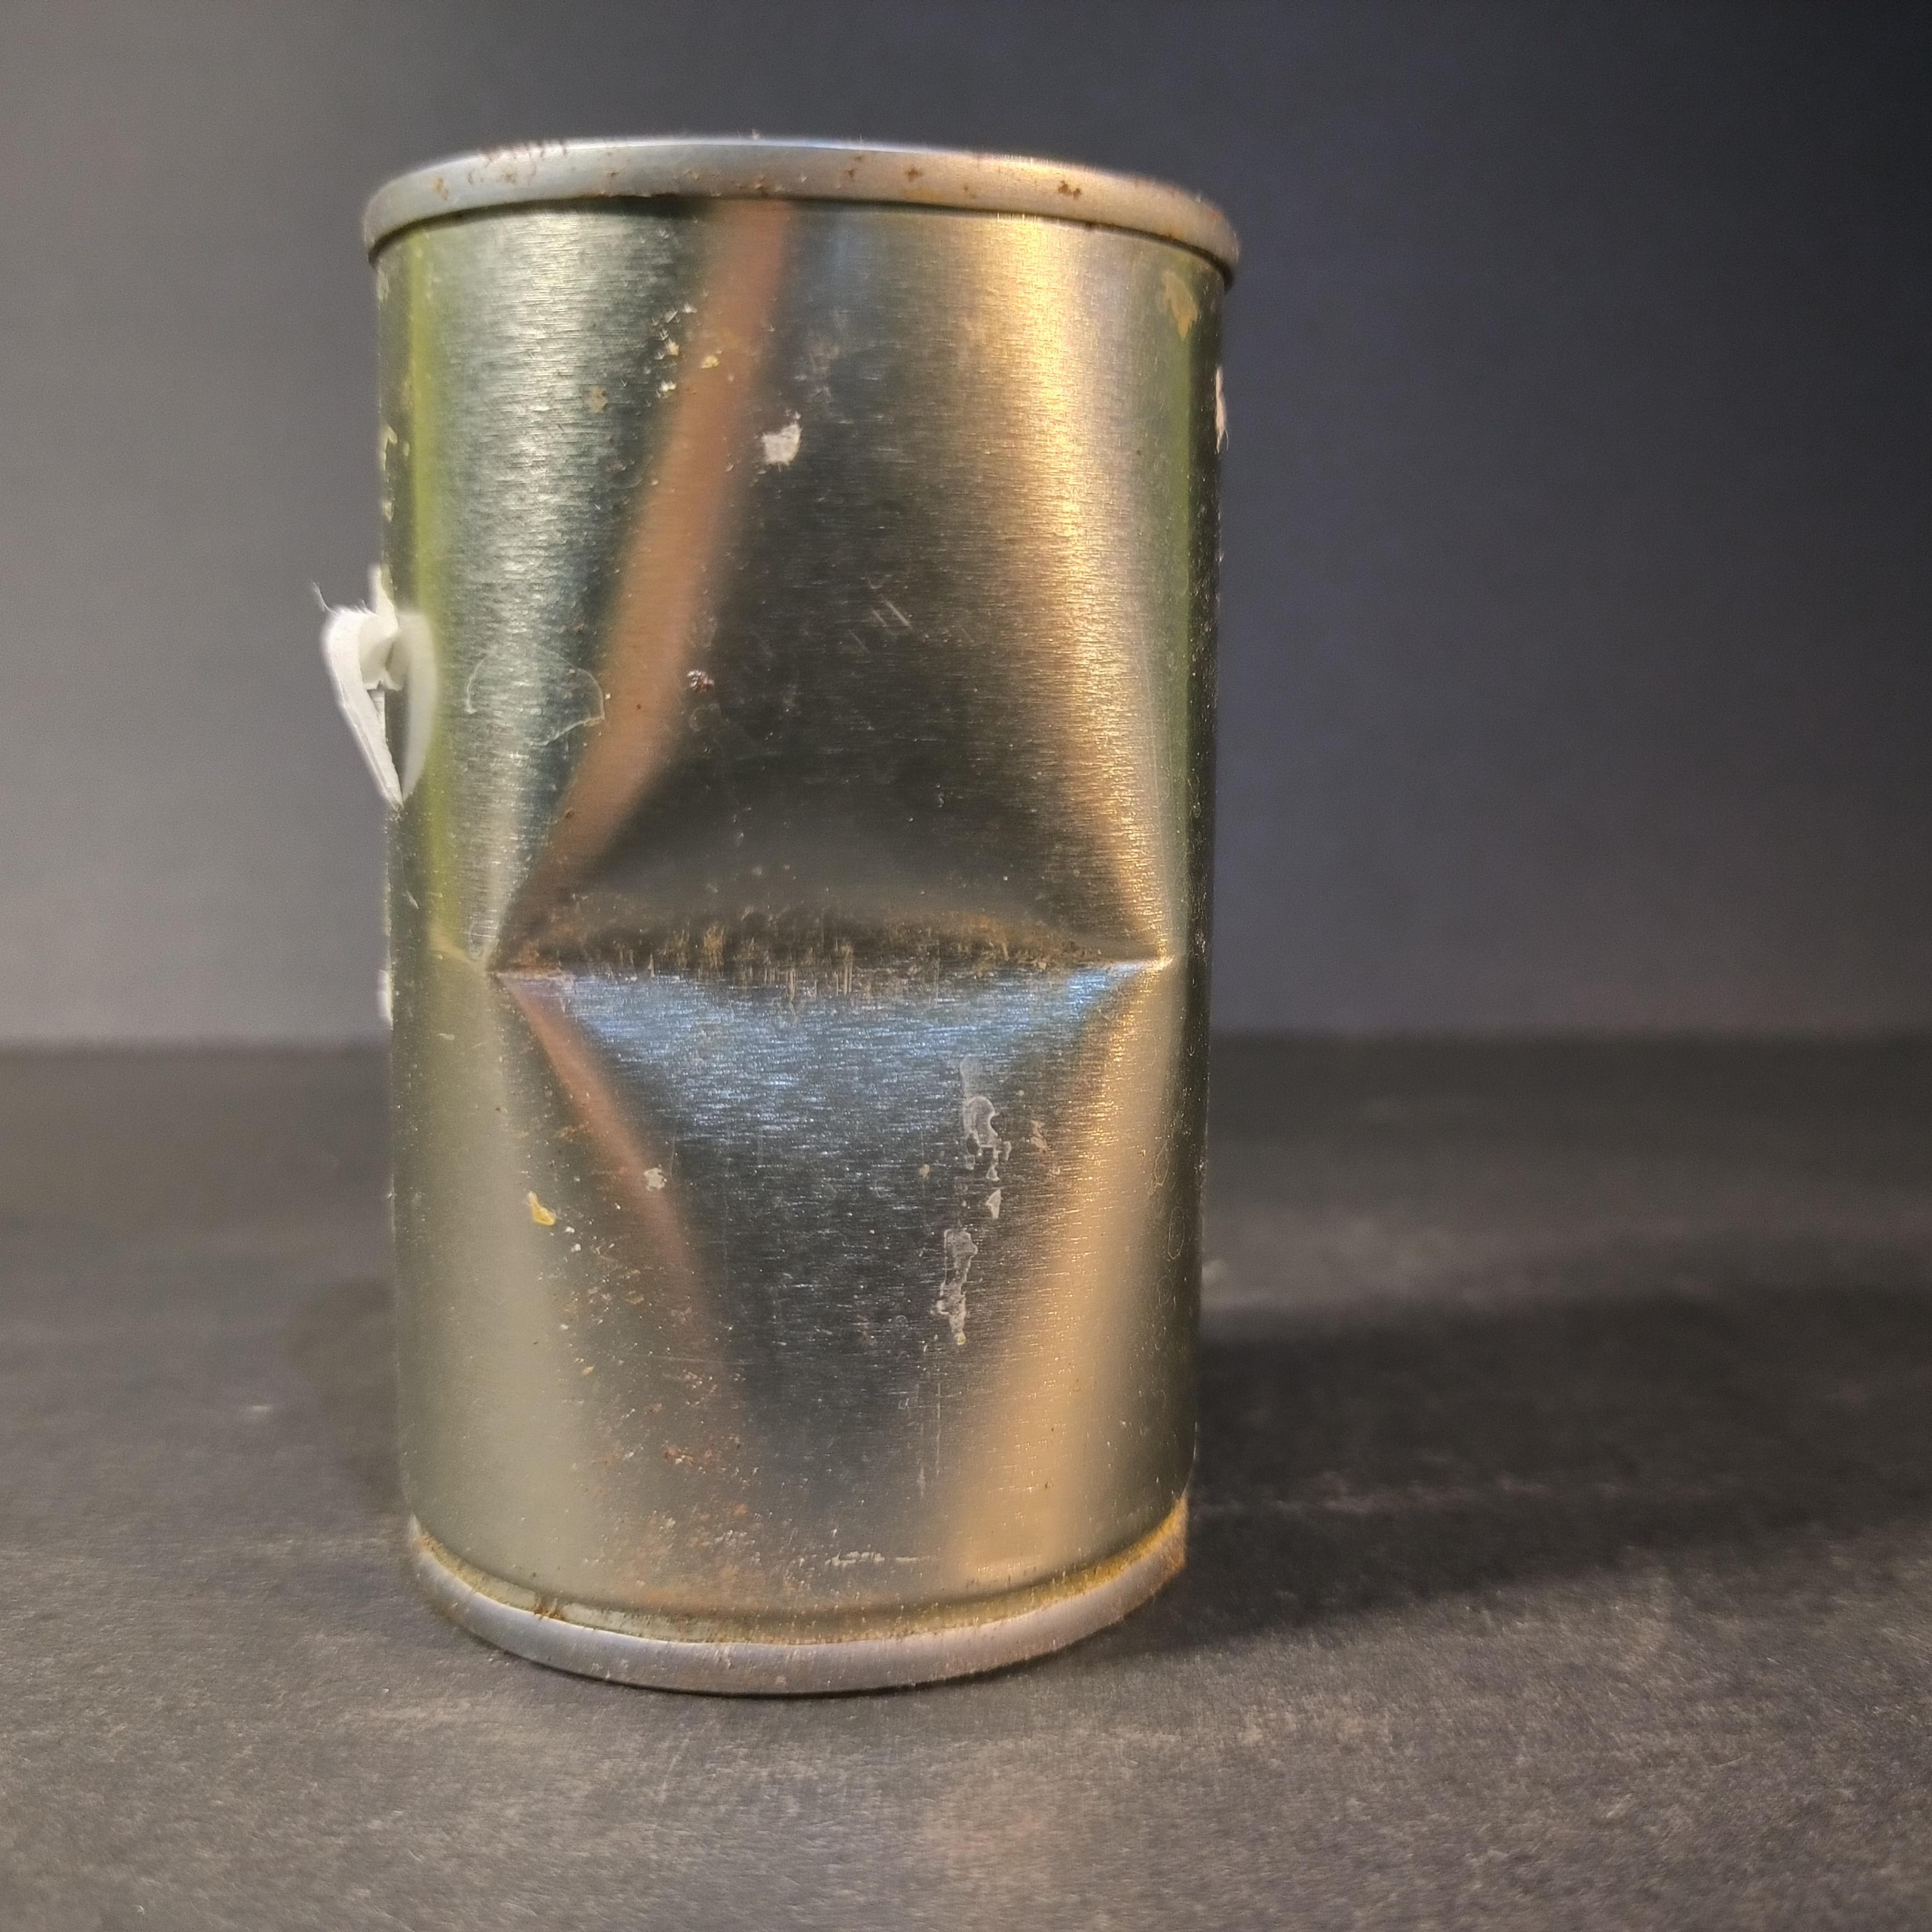Dented: (331, 106, 1260, 1711)
